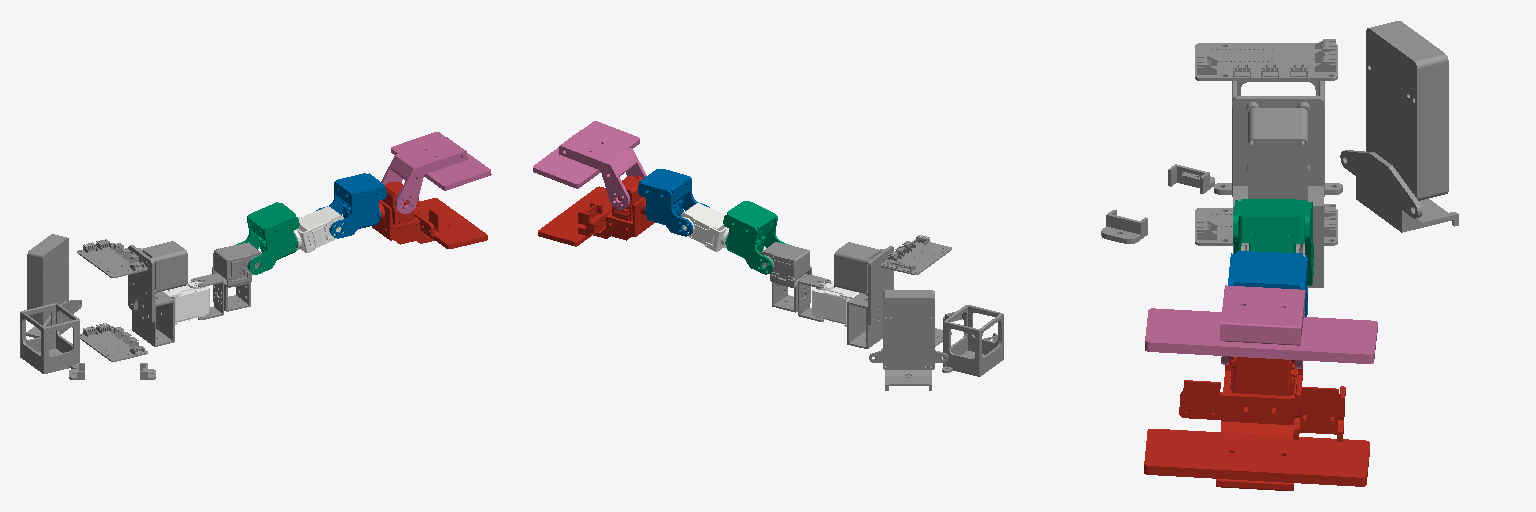
URDF robot description (assembly_main):
<?xml version="1.0" ?>
<!-- =================================================================================== -->
<!-- |    This document was autogenerated by xacro from urdf/assembly_main.xacro       | -->
<!-- |    EDITING THIS FILE BY HAND IS NOT RECOMMENDED                                 | -->
<!-- =================================================================================== -->
<robot name="assembly_main">
  <material name="silver_default">
    <color rgba="0.700 0.700 0.700 1.000"/>
  </material>
  <material name="opaque141141141">
    <color rgba="0.5529411764705883 0.5529411764705883 0.5529411764705883 1.0"/>
  </material>
  <material name="steel_satin">
    <color rgba="0.6274509803921569 0.6274509803921569 0.6274509803921569 1.0"/>
  </material>
  <material name="abs_white">
    <color rgba="0.9647058823529412 0.9647058823529412 0.9529411764705882 1.0"/>
  </material>
  <material name="powder_coat_red">
    <color rgba="0.7686274509803922 0.20784313725490197 0.15294117647058825 0.0"/>
  </material>
  <material name="opaque254254255">
    <color rgba="0.996078431372549 0.996078431372549 1.0 1.0"/>
  </material>
  <material name="opaque179179179">
    <color rgba="0.7019607843137254 0.7019607843137254 0.7019607843137254 1.0"/>
  </material>
  <transmission name="Revolute_2_tran">
    <type>transmission_interface/SimpleTransmission</type>
    <joint name="Revolute_2">
      <hardwareInterface>hardware_interface/EffortJointInterface</hardwareInterface>
    </joint>
    <actuator name="Revolute_2_actr">
      <hardwareInterface>hardware_interface/EffortJointInterface</hardwareInterface>
      <mechanicalReduction>1</mechanicalReduction>
    </actuator>
  </transmission>
  <transmission name="Revolute_3_tran">
    <type>transmission_interface/SimpleTransmission</type>
    <joint name="Revolute_3">
      <hardwareInterface>hardware_interface/EffortJointInterface</hardwareInterface>
    </joint>
    <actuator name="Revolute_3_actr">
      <hardwareInterface>hardware_interface/EffortJointInterface</hardwareInterface>
      <mechanicalReduction>1</mechanicalReduction>
    </actuator>
  </transmission>
  <transmission name="Revolute_4_tran">
    <type>transmission_interface/SimpleTransmission</type>
    <joint name="Revolute_4">
      <hardwareInterface>hardware_interface/EffortJointInterface</hardwareInterface>
    </joint>
    <actuator name="Revolute_4_actr">
      <hardwareInterface>hardware_interface/EffortJointInterface</hardwareInterface>
      <mechanicalReduction>1</mechanicalReduction>
    </actuator>
  </transmission>
  <transmission name="Revolute_5_tran">
    <type>transmission_interface/SimpleTransmission</type>
    <joint name="Revolute_5">
      <hardwareInterface>hardware_interface/EffortJointInterface</hardwareInterface>
    </joint>
    <actuator name="Revolute_5_actr">
      <hardwareInterface>hardware_interface/EffortJointInterface</hardwareInterface>
      <mechanicalReduction>1</mechanicalReduction>
    </actuator>
  </transmission>
  <transmission name="Revolute_6_tran">
    <type>transmission_interface/SimpleTransmission</type>
    <joint name="Revolute_6">
      <hardwareInterface>hardware_interface/EffortJointInterface</hardwareInterface>
    </joint>
    <actuator name="Revolute_6_actr">
      <hardwareInterface>hardware_interface/EffortJointInterface</hardwareInterface>
      <mechanicalReduction>1</mechanicalReduction>
    </actuator>
  </transmission>
  <transmission name="Revolute_1_tran">
    <type>transmission_interface/SimpleTransmission</type>
    <joint name="Revolute_1">
      <hardwareInterface>hardware_interface/EffortJointInterface</hardwareInterface>
    </joint>
    <actuator name="Revolute_1_actr">
      <hardwareInterface>hardware_interface/EffortJointInterface</hardwareInterface>
      <mechanicalReduction>1</mechanicalReduction>
    </actuator>
  </transmission>
  <link name="base_link">
    <inertial>
      <origin rpy="0 0 0" xyz="0.005188065648430864 -0.00026933142160205393 -0.01663287964245459"/>
      <mass value="10.0"/>
      <inertia ixx="0.013169" ixy="0.000108" ixz="-0.000335" iyy="0.014957" iyz="2.4e-05" izz="0.025457"/>
    </inertial>
    <visual>
      <origin rpy="0 0 0" xyz="0 0 0"/>
      <geometry>
        <mesh filename="../meshes/base_link.stl" scale="0.001 0.001 0.001"/>
      </geometry>
      <material name="opaque141141141"/>
    </visual>
    <collision>
      <origin rpy="0 0 0" xyz="0 0 0"/>
      <geometry>
        <mesh filename="../meshes/base_link.stl" scale="0.001 0.001 0.001"/>
      </geometry>
    </collision>
  </link>
  <link name="wheel_control_board_v7_2">
    <inertial>
      <origin rpy="0 0 0" xyz="0.021526332400288135 -0.034185196183547054 0.10000262508964397"/>
      <mass value="0.05597515361092653"/>
      <inertia ixx="3.1e-05" ixy="1e-06" ixz="-0.0" iyy="1e-05" iyz="-0.0" izz="4e-05"/>
    </inertial>
    <visual>
      <origin rpy="0 0 0" xyz="0.025 -0.0292 -0.0116"/>
      <geometry>
        <mesh filename="../meshes/wheel_control_board_v7_2.stl" scale="0.001 0.001 0.001"/>
      </geometry>
      <material name="steel_satin"/>
    </visual>
    <collision>
      <origin rpy="0 0 0" xyz="0.025 -0.0292 -0.0116"/>
      <geometry>
        <mesh filename="../meshes/wheel_control_board_v7_2.stl" scale="0.001 0.001 0.001"/>
      </geometry>
    </collision>
  </link>
  <link name="raspi4_bracket_v3_1">
    <inertial>
      <origin rpy="0 0 0" xyz="0.0038877953241863647 -0.006733826728159031 0.009501909481815375"/>
      <mass value="0.10147562490881655"/>
      <inertia ixx="2.2e-05" ixy="-9e-06" ixz="-3e-06" iyy="3.2e-05" iyz="4e-06" izz="3.7e-05"/>
    </inertial>
    <visual>
      <origin rpy="0 0 0" xyz="0.04 -0.069282 -0.005"/>
      <geometry>
        <mesh filename="../meshes/raspi4_bracket_v3_1.stl" scale="0.001 0.001 0.001"/>
      </geometry>
      <material name="steel_satin"/>
    </visual>
    <collision>
      <origin rpy="0 0 0" xyz="0.04 -0.069282 -0.005"/>
      <geometry>
        <mesh filename="../meshes/raspi4_bracket_v3_1.stl" scale="0.001 0.001 0.001"/>
      </geometry>
    </collision>
  </link>
  <link name="raspi4_v2_1">
    <inertial>
      <origin rpy="0 0 0" xyz="-0.00749999999999993 0.01299008311032395 0.038590101642230826"/>
      <mass value="0.7390104624417327"/>
      <inertia ixx="0.000507" ixy="-7.2e-05" ixz="1e-06" iyy="0.00059" iyz="1e-06" izz="0.000215"/>
    </inertial>
    <visual>
      <origin rpy="0 0 0" xyz="0.0335 -0.058024 -0.026"/>
      <geometry>
        <mesh filename="../meshes/raspi4_v2_1.stl" scale="0.001 0.001 0.001"/>
      </geometry>
      <material name="steel_satin"/>
    </visual>
    <collision>
      <origin rpy="0 0 0" xyz="0.0335 -0.058024 -0.026"/>
      <geometry>
        <mesh filename="../meshes/raspi4_v2_1.stl" scale="0.001 0.001 0.001"/>
      </geometry>
    </collision>
  </link>
  <link name="DZ47B_63_circuit_breaker_holder_v5_1">
    <inertial>
      <origin rpy="0 0 0" xyz="0.0378808179258513 -0.021870517177103727 0.0034323448804011907"/>
      <mass value="0.018924792034229306"/>
      <inertia ixx="8e-06" ixy="1.2e-05" ixz="-0.0" iyy="2.2e-05" iyz="0.0" izz="2.9e-05"/>
    </inertial>
    <visual>
      <origin rpy="0 0 0" xyz="0.076172 0.044934 -0.005"/>
      <geometry>
        <mesh filename="../meshes/DZ47B_63_circuit_breaker_holder_v5_1.stl" scale="0.001 0.001 0.001"/>
      </geometry>
      <material name="steel_satin"/>
    </visual>
    <collision>
      <origin rpy="0 0 0" xyz="0.076172 0.044934 -0.005"/>
      <geometry>
        <mesh filename="../meshes/DZ47B_63_circuit_breaker_holder_v5_1.stl" scale="0.001 0.001 0.001"/>
      </geometry>
    </collision>
  </link>
  <link name="wheel_control_board_v7_1">
    <inertial>
      <origin rpy="0 0 0" xyz="-0.01727366759971175 0.02421480381645276 0.006602625089643976"/>
      <mass value="0.05597515361092653"/>
      <inertia ixx="3.1e-05" ixy="1e-06" ixz="-0.0" iyy="1e-05" iyz="-0.0" izz="4e-05"/>
    </inertial>
    <visual>
      <origin rpy="0 0 0" xyz="-0.0138 0.0292 -0.005"/>
      <geometry>
        <mesh filename="../meshes/wheel_control_board_v7_1.stl" scale="0.001 0.001 0.001"/>
      </geometry>
      <material name="steel_satin"/>
    </visual>
    <collision>
      <origin rpy="0 0 0" xyz="-0.0138 0.0292 -0.005"/>
      <geometry>
        <mesh filename="../meshes/wheel_control_board_v7_1.stl" scale="0.001 0.001 0.001"/>
      </geometry>
    </collision>
  </link>
  <link name="lipo+battery_holder_v11_1">
    <inertial>
      <origin rpy="0 0 0" xyz="-0.014472410604743746 0.03065000000000157 0.01794464529626638"/>
      <mass value="0.1619868833872407"/>
      <inertia ixx="0.000116" ixy="-0.0" ixz="0.0" iyy="0.000102" iyz="0.0" izz="0.00011"/>
    </inertial>
    <visual>
      <origin rpy="0 0 0" xyz="0.064425 0.03065 -0.005"/>
      <geometry>
        <mesh filename="../meshes/lipo+battery_holder_v11_1.stl" scale="0.001 0.001 0.001"/>
      </geometry>
      <material name="steel_satin"/>
    </visual>
    <collision>
      <origin rpy="0 0 0" xyz="0.064425 0.03065 -0.005"/>
      <geometry>
        <mesh filename="../meshes/lipo+battery_holder_v11_1.stl" scale="0.001 0.001 0.001"/>
      </geometry>
    </collision>
  </link>
  <link name="arm_root_v6_1">
    <inertial>
      <origin rpy="0 0 0" xyz="0.028836205471188384 -6.461622097946888e-07 -0.006103014091259067"/>
      <mass value="0.05651259328313663"/>
      <inertia ixx="1e-05" ixy="-0.0" ixz="-1e-06" iyy="2.1e-05" iyz="-0.0" izz="1.6e-05"/>
    </inertial>
    <visual>
      <origin rpy="0 0 0" xyz="-0.0615 0.0 -0.044"/>
      <geometry>
        <mesh filename="../meshes/arm_root_v6_1.stl" scale="0.001 0.001 0.001"/>
      </geometry>
      <material name="opaque254254255"/>
    </visual>
    <collision>
      <origin rpy="0 0 0" xyz="-0.0615 0.0 -0.044"/>
      <geometry>
        <mesh filename="../meshes/arm_root_v6_1.stl" scale="0.001 0.001 0.001"/>
      </geometry>
    </collision>
  </link>
  <link name="serial_servo_driver_board_x2_v3_1">
    <inertial>
      <origin rpy="0 0 0" xyz="0.020000000000000136 0.013999999418854167 -0.018499999999996006"/>
      <mass value="0.4252482194783379"/>
      <inertia ixx="9.8e-05" ixy="-0.0" ixz="-0.0" iyy="0.000117" iyz="0.0" izz="9.4e-05"/>
    </inertial>
    <visual>
      <origin rpy="0 0 0" xyz="-0.0425 0.014 -0.103"/>
      <geometry>
        <mesh filename="../meshes/serial_servo_driver_board_x2_v3_1.stl" scale="0.001 0.001 0.001"/>
      </geometry>
      <material name="steel_satin"/>
    </visual>
    <collision>
      <origin rpy="0 0 0" xyz="-0.0425 0.014 -0.103"/>
      <geometry>
        <mesh filename="../meshes/serial_servo_driver_board_x2_v3_1.stl" scale="0.001 0.001 0.001"/>
      </geometry>
    </collision>
  </link>
  <link name="arm_bracket_v14_1">
    <inertial>
      <origin rpy="0 0 0" xyz="-0.005004825728865167 0.009999999984475738 0.04726352833341586"/>
      <mass value="0.21684183891762862"/>
      <inertia ixx="0.000236" ixy="-0.0" ixz="3.5e-05" iyy="0.000211" iyz="0.0" izz="7e-05"/>
    </inertial>
    <visual>
      <origin rpy="0 0 0" xyz="-0.047 0.01 -0.005"/>
      <geometry>
        <mesh filename="../meshes/arm_bracket_v14_1.stl" scale="0.001 0.001 0.001"/>
      </geometry>
      <material name="steel_satin"/>
    </visual>
    <collision>
      <origin rpy="0 0 0" xyz="-0.047 0.01 -0.005"/>
      <geometry>
        <mesh filename="../meshes/arm_bracket_v14_1.stl" scale="0.001 0.001 0.001"/>
      </geometry>
    </collision>
  </link>
  <link name="roll_1_test_v5_1">
    <inertial>
      <origin rpy="0 0 0" xyz="0.033338146216900594 0.020028208922864197 0.022131171383437162"/>
      <mass value="0.07353297901744495"/>
      <inertia ixx="2.4e-05" ixy="0.0" ixz="0.0" iyy="2.9e-05" iyz="-0.0" izz="2.1e-05"/>
    </inertial>
    <visual>
      <origin rpy="0 0 0" xyz="-0.166241 0.02309 -0.07071"/>
      <geometry>
        <mesh filename="../meshes/roll_1_test_v5_1.stl" scale="0.001 0.001 0.001"/>
      </geometry>
      <material name="oak"/>
    </visual>
    <collision>
      <origin rpy="0 0 0" xyz="-0.166241 0.02309 -0.07071"/>
      <geometry>
        <mesh filename="../meshes/roll_1_test_v5_1.stl" scale="0.001 0.001 0.001"/>
      </geometry>
    </collision>
  </link>
  <link name="pitch_2_test_v8_1">
    <inertial>
      <origin rpy="0 0 0" xyz="0.0311465623628171 -0.0004080664992568701 0.0063401442351962295"/>
      <mass value="0.058119652228533734"/>
      <inertia ixx="1.1e-05" ixy="-0.0" ixz="-2e-06" iyy="1.7e-05" iyz="0.0" izz="2.2e-05"/>
    </inertial>
    <visual>
      <origin rpy="0 0 0" xyz="-0.222219 0.003867 -0.081993"/>
      <geometry>
        <mesh filename="../meshes/pitch_2_test_v8_1.stl" scale="0.001 0.001 0.001"/>
      </geometry>
      <material name="abs_white"/>
    </visual>
    <collision>
      <origin rpy="0 0 0" xyz="-0.222219 0.003867 -0.081993"/>
      <geometry>
        <mesh filename="../meshes/pitch_2_test_v8_1.stl" scale="0.001 0.001 0.001"/>
      </geometry>
    </collision>
  </link>
  <link name="roll_2_test_v5_1">
    <inertial>
      <origin rpy="0 0 0" xyz="0.037026448800230594 0.02011130721296018 0.015094199070528766"/>
      <mass value="0.07365581710871624"/>
      <inertia ixx="2.4e-05" ixy="0.0" ixz="-1e-06" iyy="2.9e-05" iyz="-0.0" izz="2.1e-05"/>
    </inertial>
    <visual>
      <origin rpy="0 0 0" xyz="-0.266604 0.02625 -0.091794"/>
      <geometry>
        <mesh filename="../meshes/roll_2_test_v5_1.stl" scale="0.001 0.001 0.001"/>
      </geometry>
      <material name="oak"/>
    </visual>
    <collision>
      <origin rpy="0 0 0" xyz="-0.266604 0.02625 -0.091794"/>
      <geometry>
        <mesh filename="../meshes/roll_2_test_v5_1.stl" scale="0.001 0.001 0.001"/>
      </geometry>
    </collision>
  </link>
  <link name="hand_unit_v24_1">
    <inertial>
      <origin rpy="0 0 0" xyz="0.04289771903858419 -0.0015191951909393686 -0.01510531326448633"/>
      <mass value="0.13230659416117943"/>
      <inertia ixx="9.9e-05" ixy="1e-06" ixz="3.9e-05" iyy="0.000138" iyz="1e-06" izz="0.000152"/>
    </inertial>
    <visual>
      <origin rpy="0 0 0" xyz="-0.323821 0.007368 -0.091973"/>
      <geometry>
        <mesh filename="../meshes/hand_unit_v24_1.stl" scale="0.001 0.001 0.001"/>
      </geometry>
      <material name="powder_coat_red"/>
    </visual>
    <collision>
      <origin rpy="0 0 0" xyz="-0.323821 0.007368 -0.091973"/>
      <geometry>
        <mesh filename="../meshes/hand_unit_v24_1.stl" scale="0.001 0.001 0.001"/>
      </geometry>
    </collision>
  </link>
  <link name="hand_finger_v38_1">
    <inertial>
      <origin rpy="0 0 0" xyz="0.04146255250769765 0.021778097011469606 0.029487538405841812"/>
      <mass value="0.07994136386082434"/>
      <inertia ixx="5.9e-05" ixy="-1e-06" ixz="-9e-06" iyy="4.9e-05" iyz="2e-06" izz="9.5e-05"/>
    </inertial>
    <visual>
      <origin rpy="0 0 0" xyz="-0.348363 0.030515 -0.10626"/>
      <geometry>
        <mesh filename="../meshes/hand_finger_v38_1.stl" scale="0.001 0.001 0.001"/>
      </geometry>
      <material name="oak"/>
    </visual>
    <collision>
      <origin rpy="0 0 0" xyz="-0.348363 0.030515 -0.10626"/>
      <geometry>
        <mesh filename="../meshes/hand_finger_v38_1.stl" scale="0.001 0.001 0.001"/>
      </geometry>
    </collision>
  </link>
  <link name="pitch_1_test_v10_1">
    <inertial>
      <origin rpy="0 0 0" xyz="0.0448811665657521 -0.0015159947037514806 0.032721508245901094"/>
      <mass value="0.11843544806781975"/>
      <inertia ixx="5.6e-05" ixy="-0.0" ixz="-1.3e-05" iyy="7.1e-05" iyz="-1e-06" izz="3.8e-05"/>
    </inertial>
    <visual>
      <origin rpy="0 0 0" xyz="-0.1039 -0.0 -0.0194"/>
      <geometry>
        <mesh filename="../meshes/pitch_1_test_v10_1.stl" scale="0.001 0.001 0.001"/>
      </geometry>
      <material name="steel_satin"/>
    </visual>
    <collision>
      <origin rpy="0 0 0" xyz="-0.1039 -0.0 -0.0194"/>
      <geometry>
        <mesh filename="../meshes/pitch_1_test_v10_1.stl" scale="0.001 0.001 0.001"/>
      </geometry>
    </collision>
  </link>
  <joint name="Rigid 6" type="fixed">
    <origin rpy="0 0 0" xyz="-0.0388 0.0584 0.0066"/>
    <parent link="wheel_control_board_v7_1"/>
    <child link="wheel_control_board_v7_2"/>
  </joint>
  <joint name="Rigid 7" type="fixed">
    <origin rpy="0 0 0" xyz="-0.04 0.069282 0.005"/>
    <parent link="base_link"/>
    <child link="raspi4_bracket_v3_1"/>
  </joint>
  <joint name="Rigid 8" type="fixed">
    <origin rpy="0 0 0" xyz="0.0065 -0.011258 0.021"/>
    <parent link="raspi4_bracket_v3_1"/>
    <child link="raspi4_v2_1"/>
  </joint>
  <joint name="Rigid 17" type="fixed">
    <origin rpy="0 0 0" xyz="-0.076172 -0.044934 0.005"/>
    <parent link="base_link"/>
    <child link="DZ47B_63_circuit_breaker_holder_v5_1"/>
  </joint>
  <joint name="Rigid 27" type="fixed">
    <origin rpy="0 0 0" xyz="0.0138 -0.0292 0.005"/>
    <parent link="base_link"/>
    <child link="wheel_control_board_v7_1"/>
  </joint>
  <joint name="Rigid 31" type="fixed">
    <origin rpy="0 0 0" xyz="-0.064425 -0.03065 0.005"/>
    <parent link="base_link"/>
    <child link="lipo+battery_holder_v11_1"/>
  </joint>
  <joint name="Rigid 45" type="fixed">
    <origin rpy="0 0 0" xyz="0.0145 0.01 0.039"/>
    <parent link="arm_bracket_v14_1"/>
    <child link="arm_root_v6_1"/>
  </joint>
  <joint name="Rigid 46" type="fixed">
    <origin rpy="0 0 0" xyz="-0.0045 -0.004 0.098"/>
    <parent link="arm_bracket_v14_1"/>
    <child link="serial_servo_driver_board_x2_v3_1"/>
  </joint>
  <joint name="Rigid 47" type="fixed">
    <origin rpy="0 0 0" xyz="0.047 -0.01 0.005"/>
    <parent link="base_link"/>
    <child link="arm_bracket_v14_1"/>
  </joint>
  <joint name="Revolute_2" type="revolute">
    <origin rpy="0 0 0" xyz="0.062341 -0.02309 0.05131"/>
    <parent link="pitch_1_test_v10_1"/>
    <child link="roll_1_test_v5_1"/>
    <axis xyz="0.03553 0.999369 -0.0"/>
    <limit effort="4" lower="-1.396263" upper="1.919862" velocity="1.5"/>
  </joint>
  <joint name="Revolute_3" type="continuous">
    <origin rpy="0 0 0" xyz="0.055978 0.019223 0.011283"/>
    <parent link="roll_1_test_v5_1"/>
    <child link="pitch_2_test_v8_1"/>
    <axis xyz="-0.979164 0.034812 -0.200064"/>
    <limit effort="4" velocity="1.5"/>
  </joint>
  <joint name="Revolute_4" type="revolute">
    <origin rpy="0 0 0" xyz="0.044385 -0.022383 0.009801"/>
    <parent link="pitch_2_test_v8_1"/>
    <child link="roll_2_test_v5_1"/>
    <axis xyz="0.040993 0.998799 -0.026834"/>
    <limit effort="4" lower="-1.48353" upper="1.919862" velocity="1.5"/>
  </joint>
  <joint name="Revolute_5" type="continuous">
    <origin rpy="0 0 0" xyz="0.057217 0.018882 0.000179"/>
    <parent link="roll_2_test_v5_1"/>
    <child link="hand_unit_v24_1"/>
    <axis xyz="-0.999086 0.040649 -0.013249"/>
    <limit effort="4" velocity="1.5"/>
  </joint>
  <joint name="Revolute_6" type="revolute">
    <origin rpy="0 0 0" xyz="0.024542 -0.023147 0.014287"/>
    <parent link="hand_unit_v24_1"/>
    <child link="hand_finger_v38_1"/>
    <axis xyz="0.041176 0.998256 -0.042293"/>
    <limit effort="4" lower="-1.047198" upper="0.872665" velocity="1.5"/>
  </joint>
  <joint name="Revolute_1" type="continuous">
    <origin rpy="0 0 0" xyz="0.0424 0.0 -0.0246"/>
    <parent link="arm_root_v6_1"/>
    <child link="pitch_1_test_v10_1"/>
    <axis xyz="0.0 -0.0 -1.0"/>
    <limit effort="4" velocity="1.5"/>
  </joint>
</robot>

--- Facts derived from the render (not from the file) ---
The picture shows the robot from 3 angles, left to right: view 1: azimuth 30°, elevation 25°; view 2: azimuth 150°, elevation 25°; view 3: azimuth 270°, elevation 25°; orthographic projection.
Robot: assembly_main — 16 links, 15 joints (3 revolute, 3 continuous, 9 fixed); root link base_link; default pose: every joint at zero.
Links seen in each view (by area): view 1: hand_finger_v38_1, hand_unit_v24_1, arm_bracket_v14_1, lipo+battery_holder_v11_1, raspi4_v2_1, pitch_1_test_v10_1, roll_1_test_v5_1, roll_2_test_v5_1, wheel_control_board_v7_2, wheel_control_board_v7_1, serial_servo_driver_board_x2_v3_1, pitch_2_test_v8_1 (+1 smaller); view 2: hand_finger_v38_1, raspi4_v2_1, hand_unit_v24_1, lipo+battery_holder_v11_1, pitch_1_test_v10_1, arm_bracket_v14_1, roll_1_test_v5_1, roll_2_test_v5_1, serial_servo_driver_board_x2_v3_1, wheel_control_board_v7_2, pitch_2_test_v8_1, arm_root_v6_1 (+1 smaller); view 3: hand_unit_v24_1, hand_finger_v38_1, raspi4_v2_1, wheel_control_board_v7_2, serial_servo_driver_board_x2_v3_1, arm_bracket_v14_1, raspi4_bracket_v3_1, roll_1_test_v5_1, roll_2_test_v5_1, wheel_control_board_v7_1, DZ47B_63_circuit_breaker_holder_v5_1, lipo+battery_holder_v11_1.
Boxes of the visible links, x1,y1,x2,y2 form: hand_finger_v38_1: (381,132,491,213); hand_unit_v24_1: (372,181,487,248); arm_bracket_v14_1: (128,245,174,346); lipo+battery_holder_v11_1: (20,303,79,373); raspi4_v2_1: (27,234,68,325); pitch_1_test_v10_1: (191,242,262,319); roll_1_test_v5_1: (236,202,299,274); roll_2_test_v5_1: (316,173,386,238); wheel_control_board_v7_2: (77,239,147,277); wheel_control_board_v7_1: (80,323,147,361); serial_servo_driver_board_x2_v3_1: (143,241,187,292); pitch_2_test_v8_1: (294,206,343,252); hand_finger_v38_1: (533,121,646,209); raspi4_v2_1: (883,290,934,369); hand_unit_v24_1: (538,176,654,246); lipo+battery_holder_v11_1: (942,305,1003,376); pitch_1_test_v10_1: (760,242,830,321); arm_bracket_v14_1: (847,246,893,348); roll_1_test_v5_1: (723,201,785,274); roll_2_test_v5_1: (638,169,709,236); serial_servo_driver_board_x2_v3_1: (834,242,879,293); wheel_control_board_v7_2: (881,235,951,274); pitch_2_test_v8_1: (680,203,728,251); arm_root_v6_1: (812,282,858,326); hand_unit_v24_1: (1144,356,1369,490); hand_finger_v38_1: (1145,285,1377,368); raspi4_v2_1: (1366,21,1448,200); wheel_control_board_v7_2: (1195,39,1337,80); serial_servo_driver_board_x2_v3_1: (1248,108,1307,201); arm_bracket_v14_1: (1233,96,1323,287); raspi4_bracket_v3_1: (1340,150,1458,232); roll_1_test_v5_1: (1233,199,1313,285); roll_2_test_v5_1: (1228,251,1307,316); wheel_control_board_v7_1: (1195,204,1337,245); DZ47B_63_circuit_breaker_holder_v5_1: (1101,164,1214,243); lipo+battery_holder_v11_1: (1214,81,1342,196).
Size in the robot's own frame: 0.5378 by 0.1962 by 0.151 metres.
15 mesh visuals loaded from 16 distinct referenced files (15 binary STL); not drawn: 1 (reference not matched to a file when rendering).
